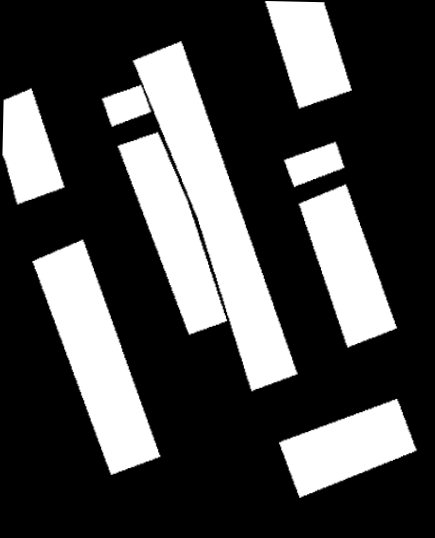parkingspot: (133, 41, 298, 391), (32, 240, 160, 475), (118, 132, 227, 335), (299, 184, 397, 348), (279, 399, 417, 498), (265, 1, 352, 109), (2, 88, 65, 204), (284, 142, 344, 187), (102, 85, 151, 127)
